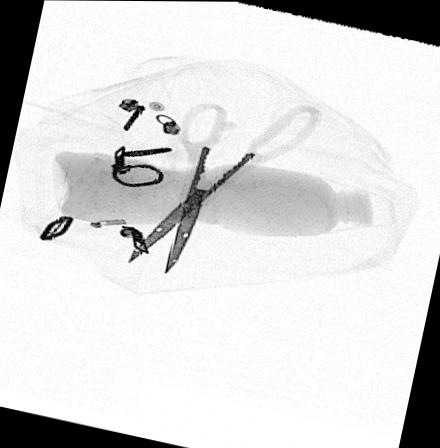Scissors: (126, 100, 323, 271)
